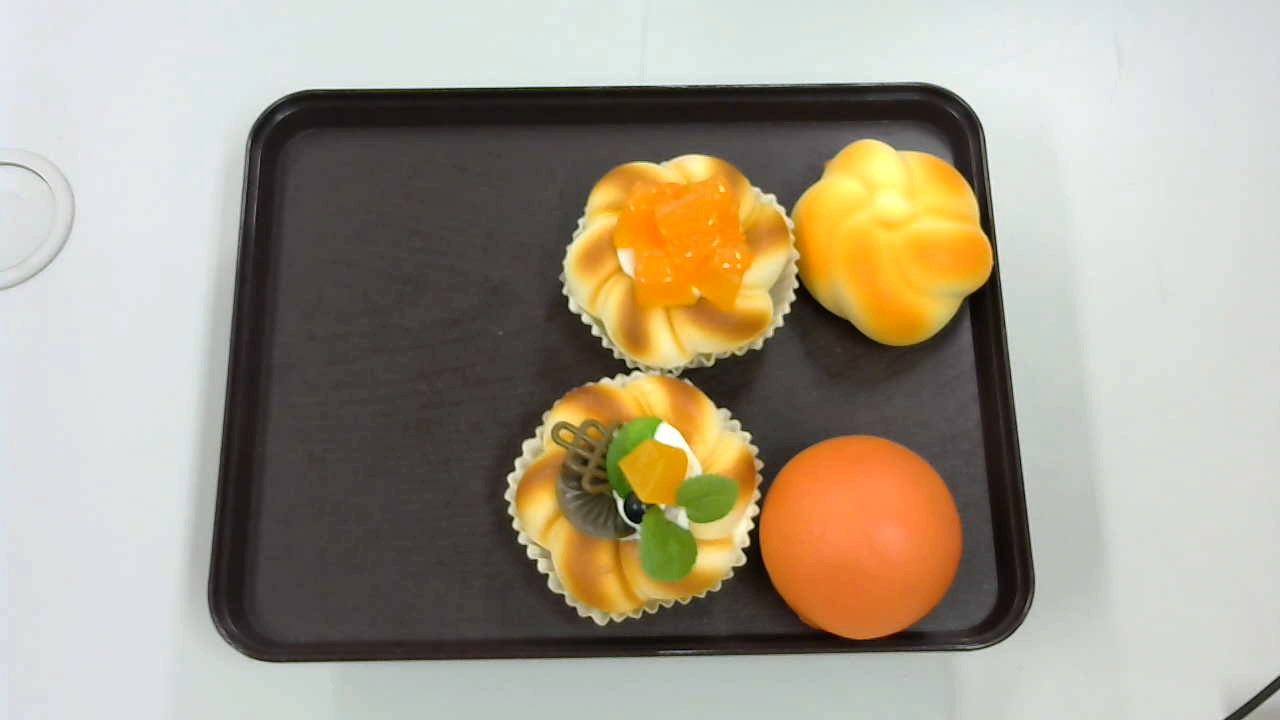bun: (760, 434, 964, 640)
fruit tart: (503, 370, 762, 622)
mango tart: (560, 152, 801, 376)
twist bread: (788, 138, 995, 349)
